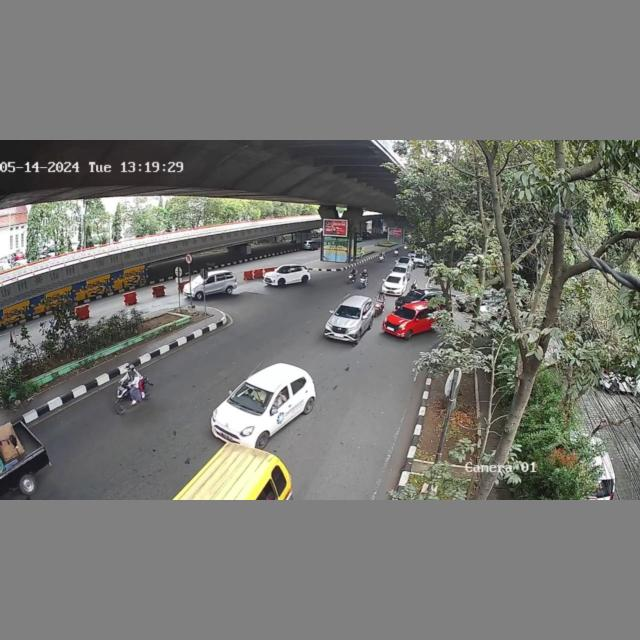windshield: (231, 380, 273, 413), (336, 302, 363, 321)
